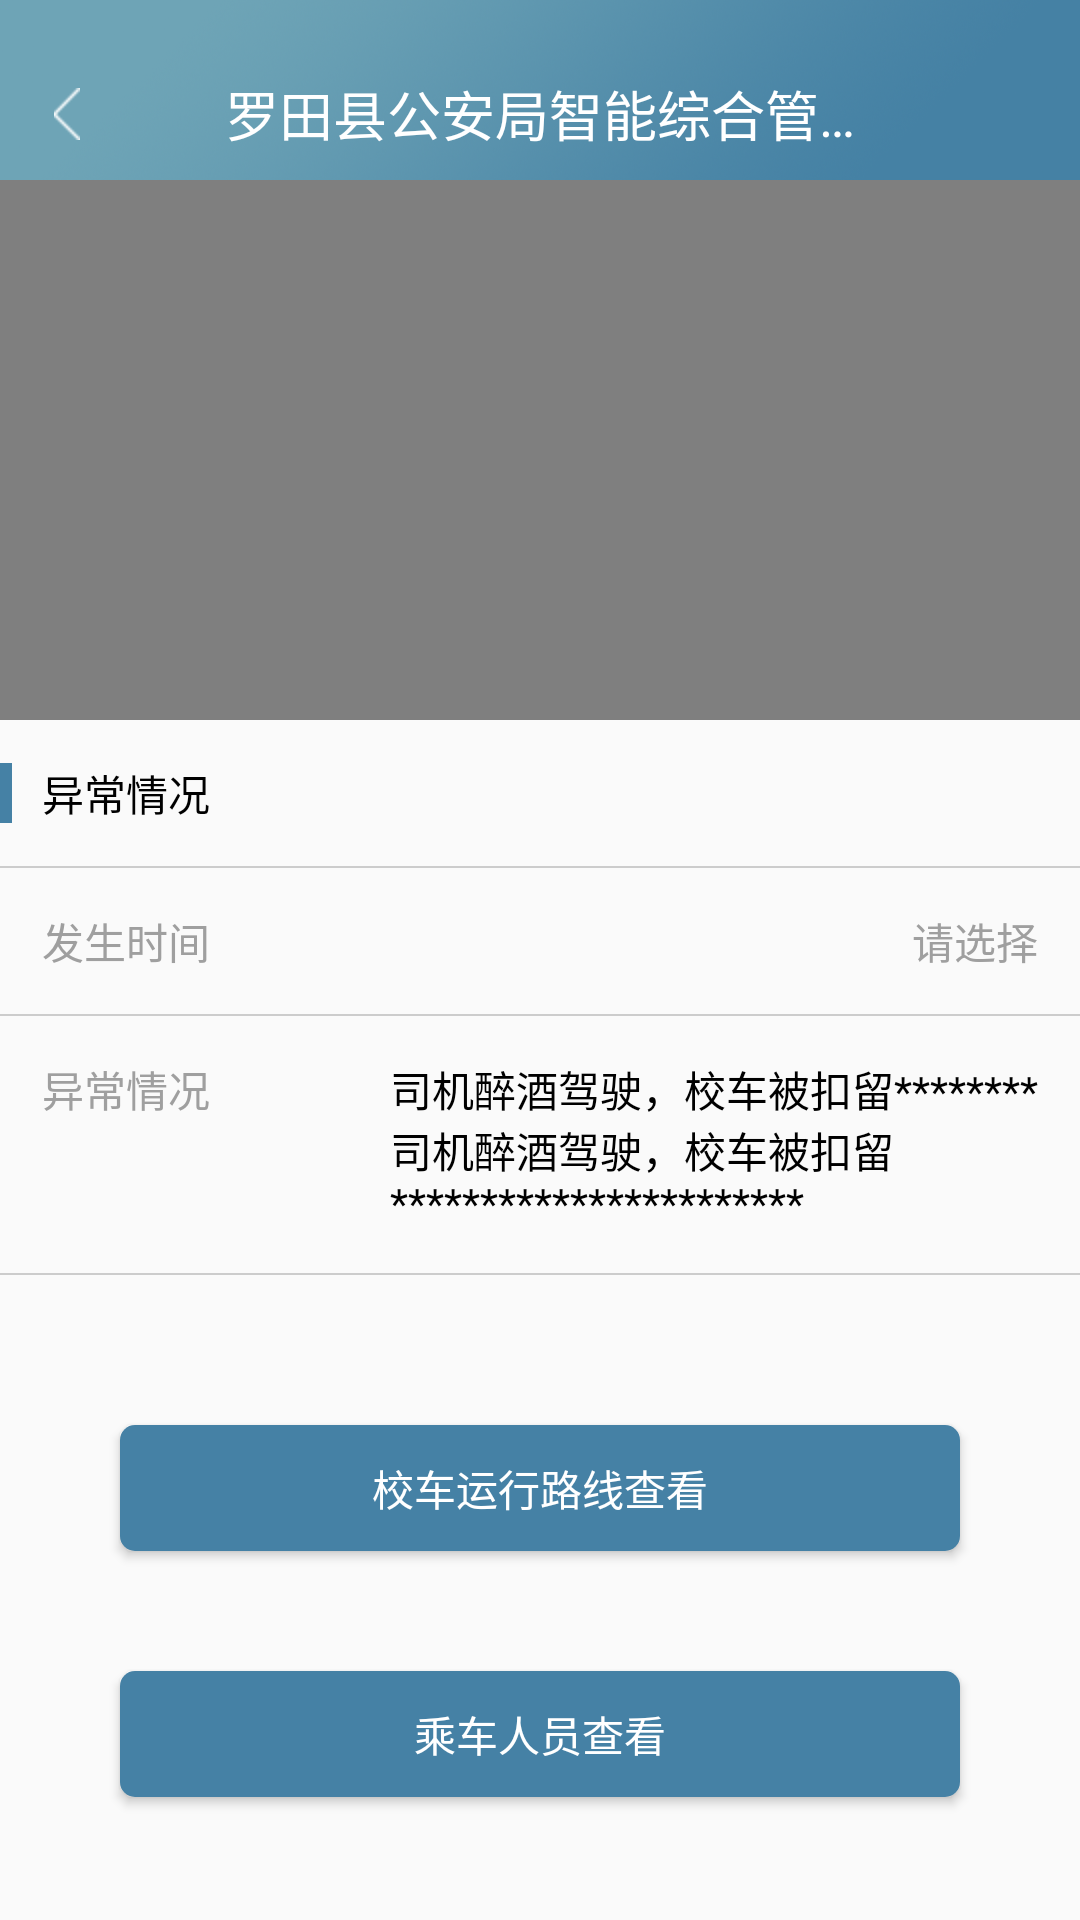

Where to tap for icons on this 1080x1920 app screen, as point (x, y):
back: point (67, 114)
